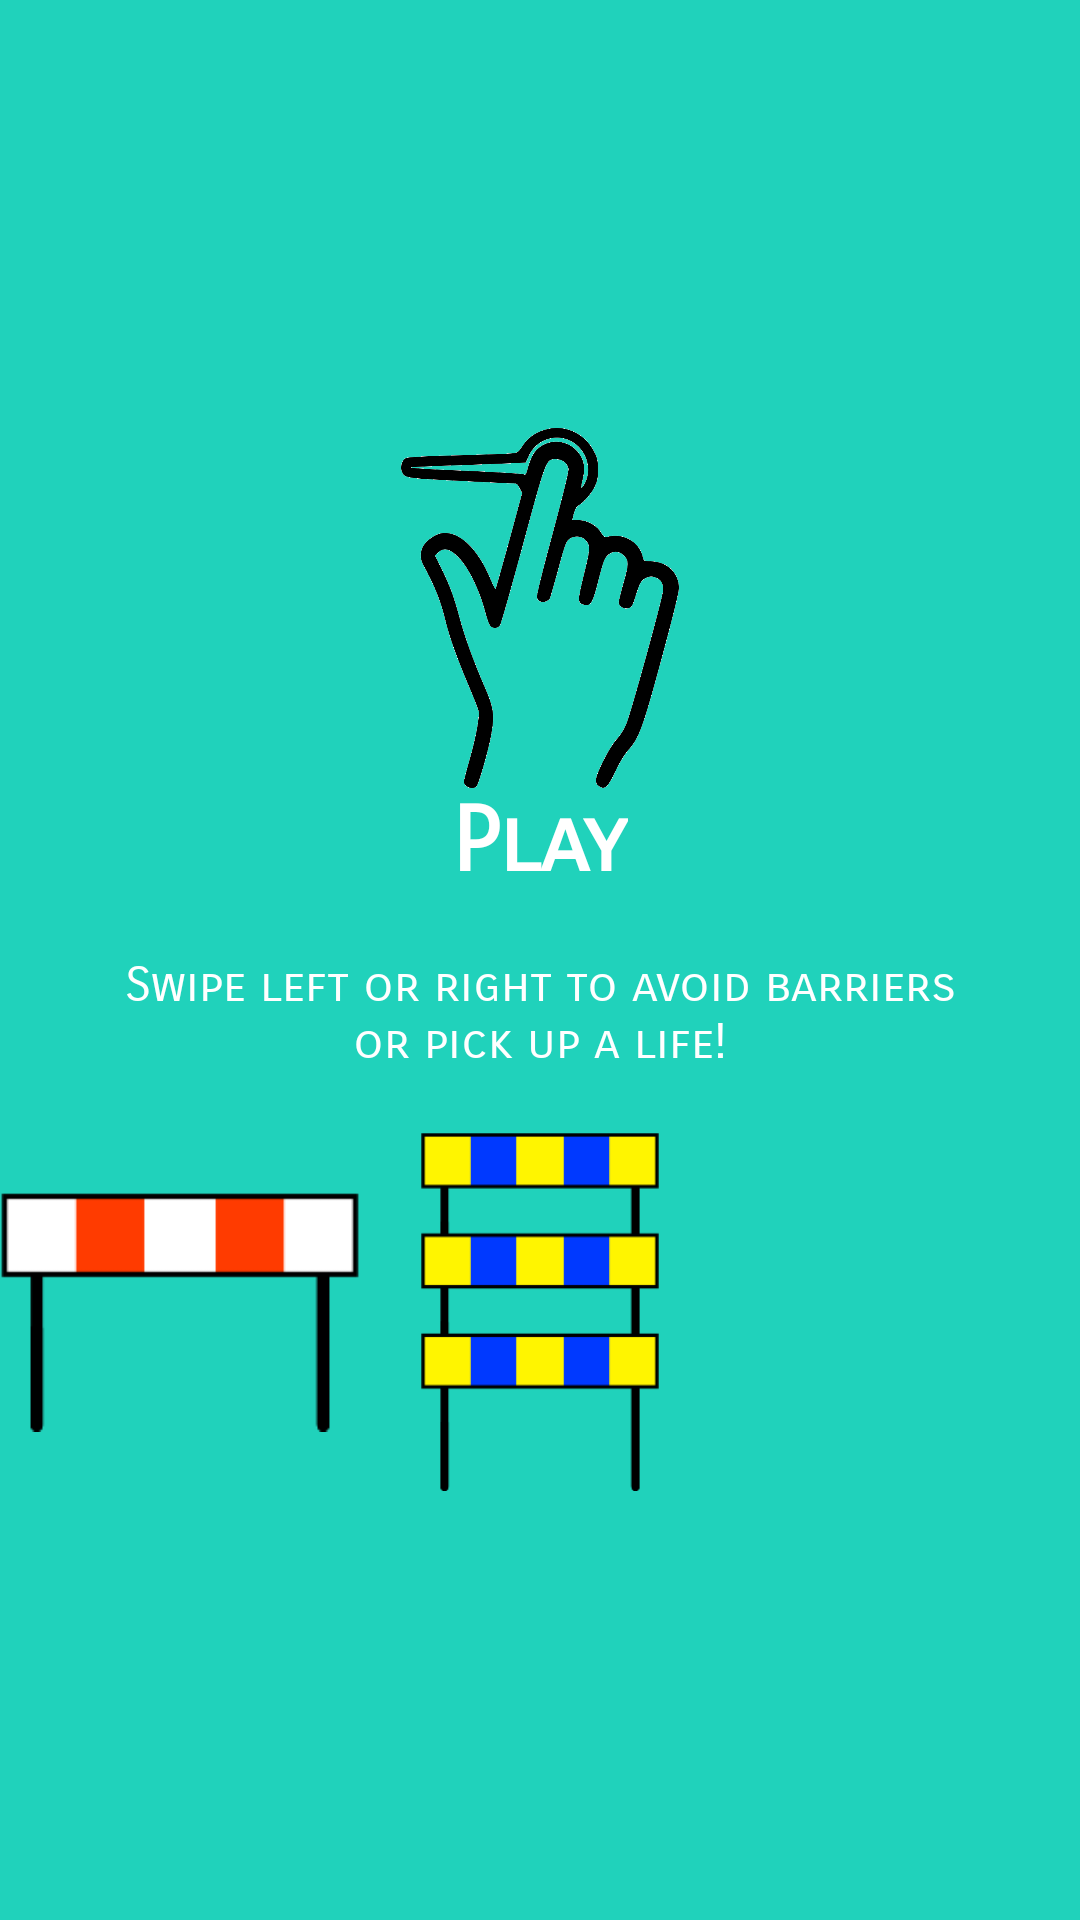

Icons on this 1080 × 1920 Android screen, each with the point to tap as [x,y]:
obstacle court: [180,1312]
obstacle long: [540,1312]
swipe: [540,608]
